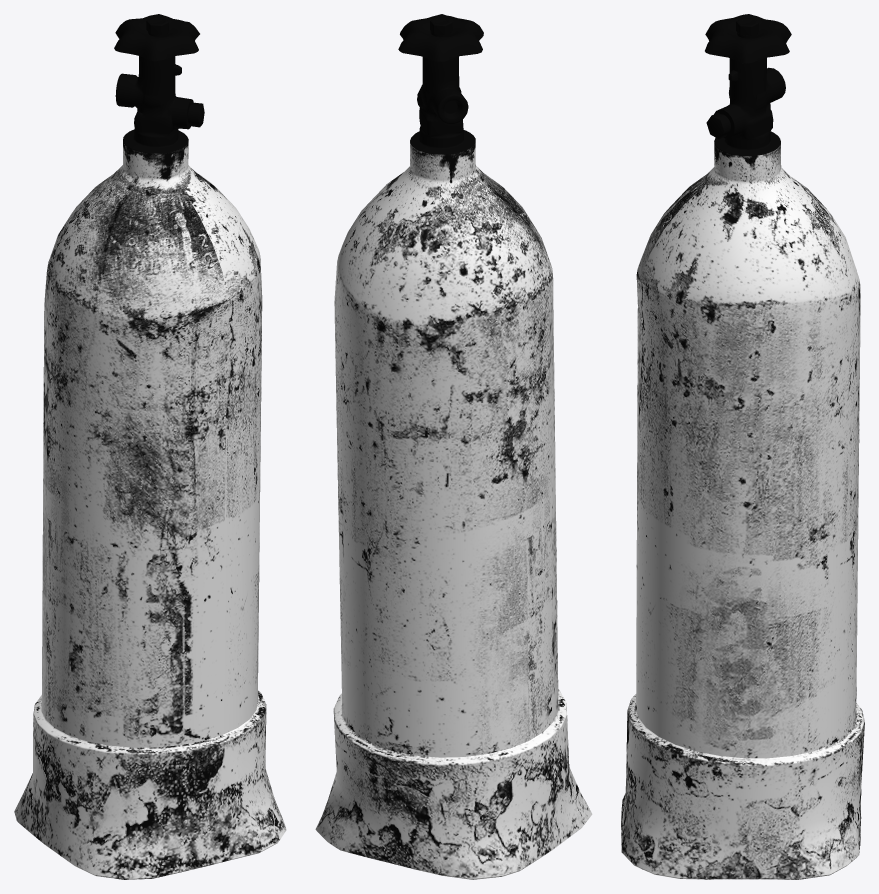
File: sm_GasCylinder_01_02.fbx
The picture shows the model from 3 angles, left to right: view 1: azimuth 30°, elevation 25°; view 2: azimuth 150°, elevation 25°; view 3: azimuth 270°, elevation 25°; orthographic projection.
Parts seen in each view (by area): view 1: sm_GasCylinder_01_02_LOD0; view 2: sm_GasCylinder_01_02_LOD0; view 3: sm_GasCylinder_01_02_LOD0.
Boxes of the visible parts, left/top/right/bottom form: sm_GasCylinder_01_02_LOD0: left=14, top=14, right=286, bottom=879; sm_GasCylinder_01_02_LOD0: left=315, top=14, right=592, bottom=879; sm_GasCylinder_01_02_LOD0: left=621, top=14, right=864, bottom=879.
Size of the model in its own units: 19.38 by 19.43 by 71.38.
